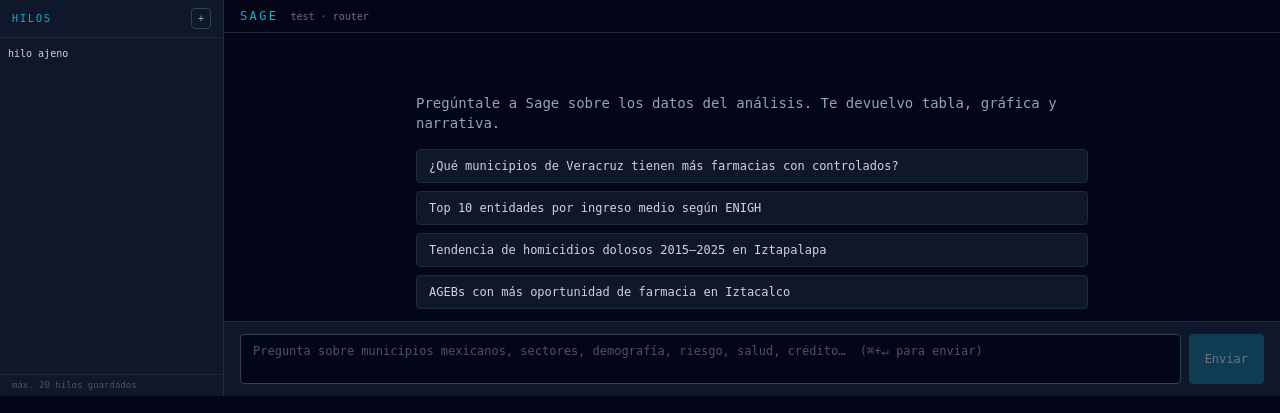
Test: SageMode thread ownership (#11/#82/#89) › drops a thread from the index when loading it 404s
Click the button "hilo ajeno" at (102, 54), box [8,46,197,61]
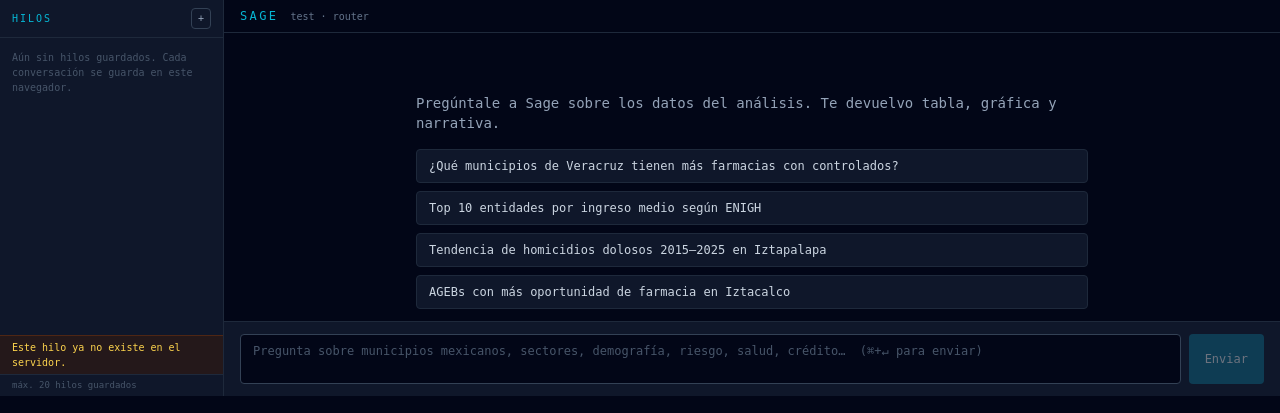
Expected: the text "Este hilo ya no existe en el servidor." is shown, [0,334,223,374]
